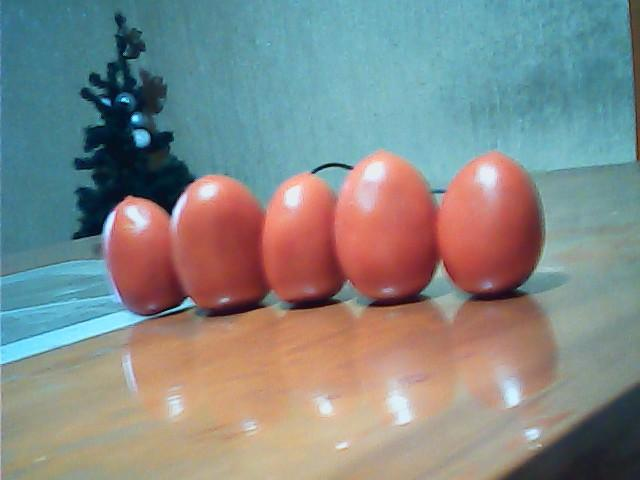maduro: (336, 148, 440, 303), (436, 150, 543, 298), (170, 172, 267, 314), (262, 170, 346, 306), (103, 195, 188, 318)
